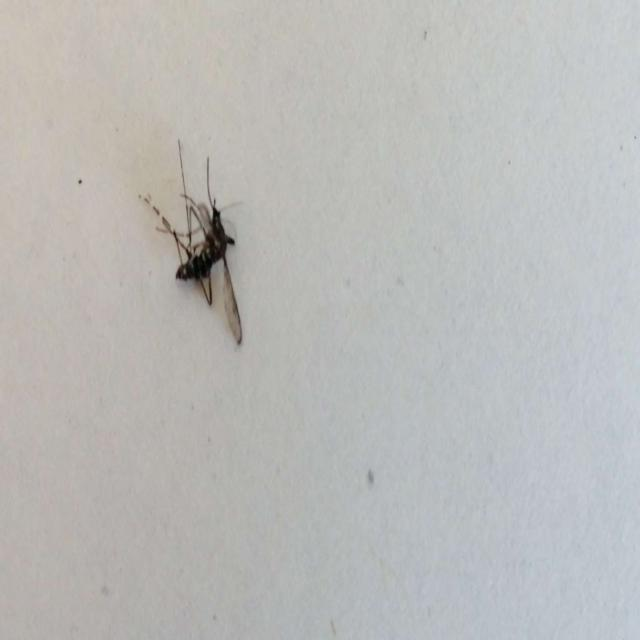albopictus: (138, 132, 246, 339)
